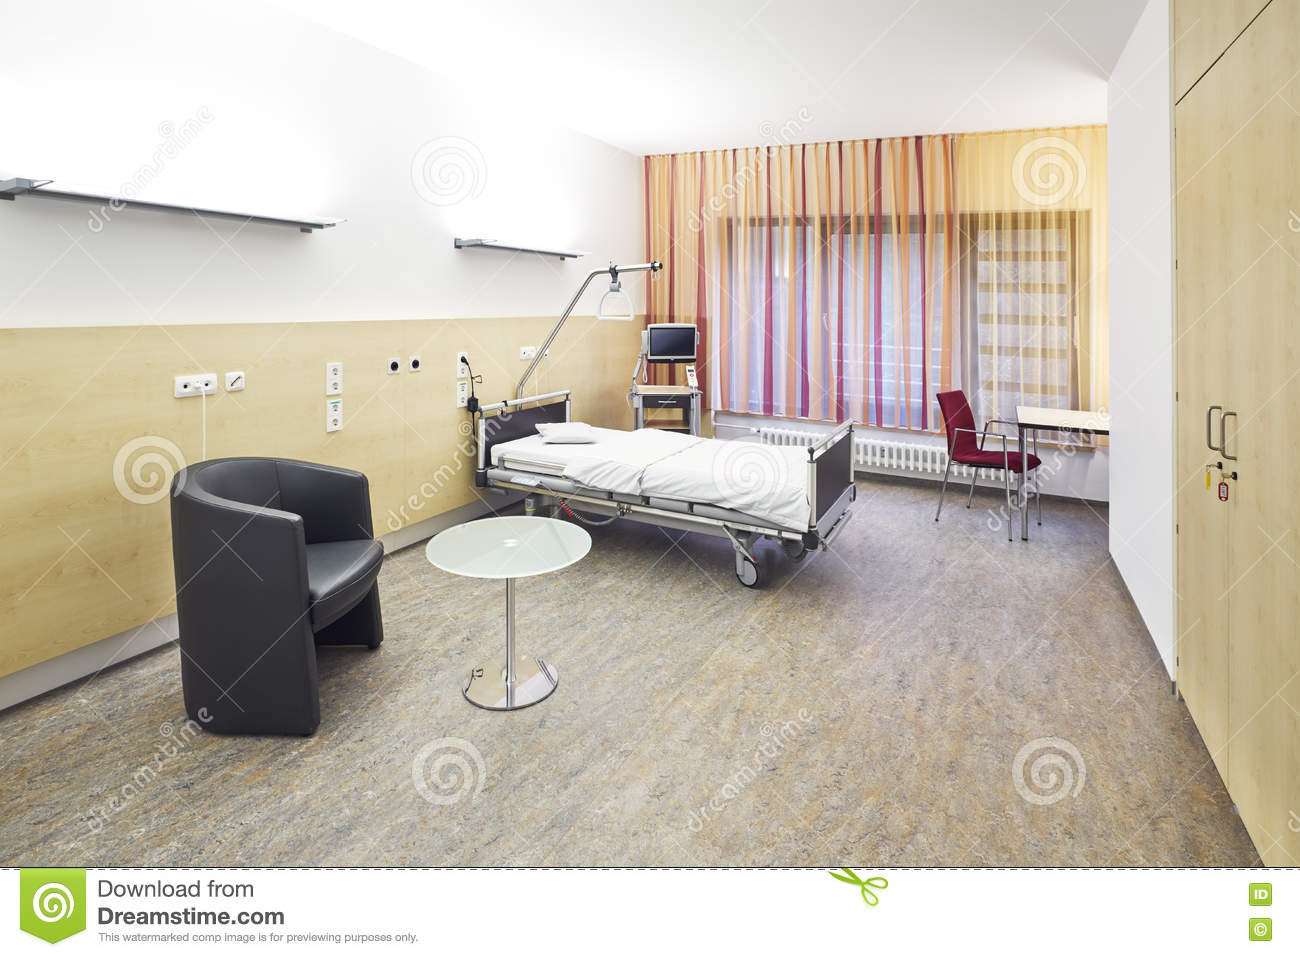hospital bed: (448, 391, 871, 562)
